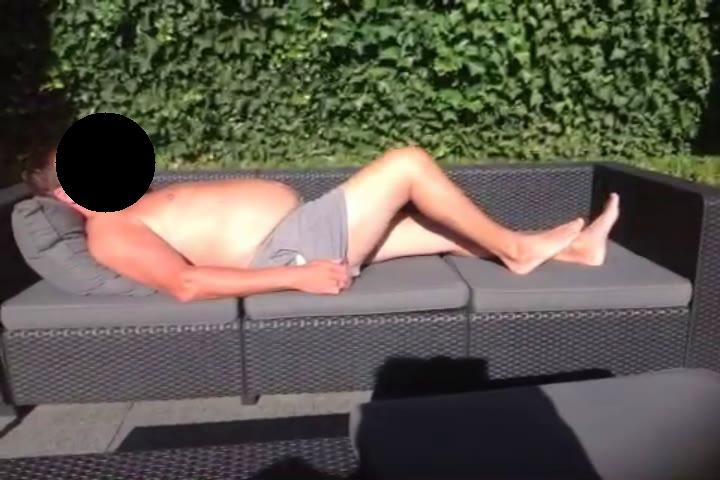lower_body: (289, 144, 623, 281)
